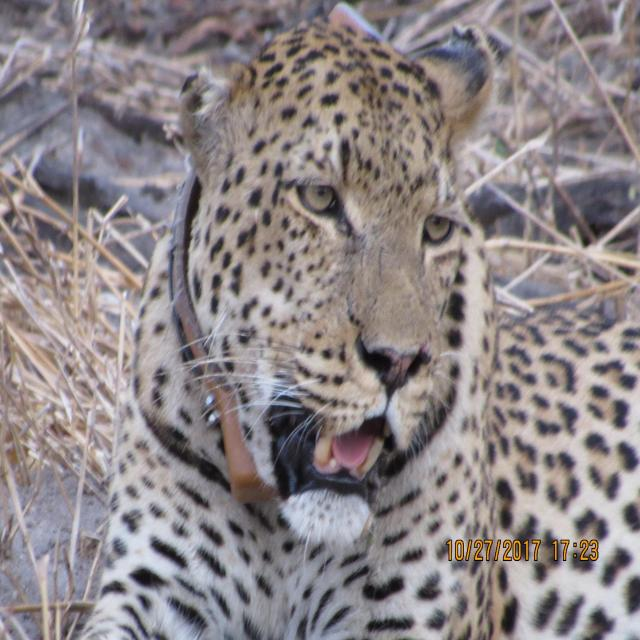Leopard: (3, 13, 640, 640)
